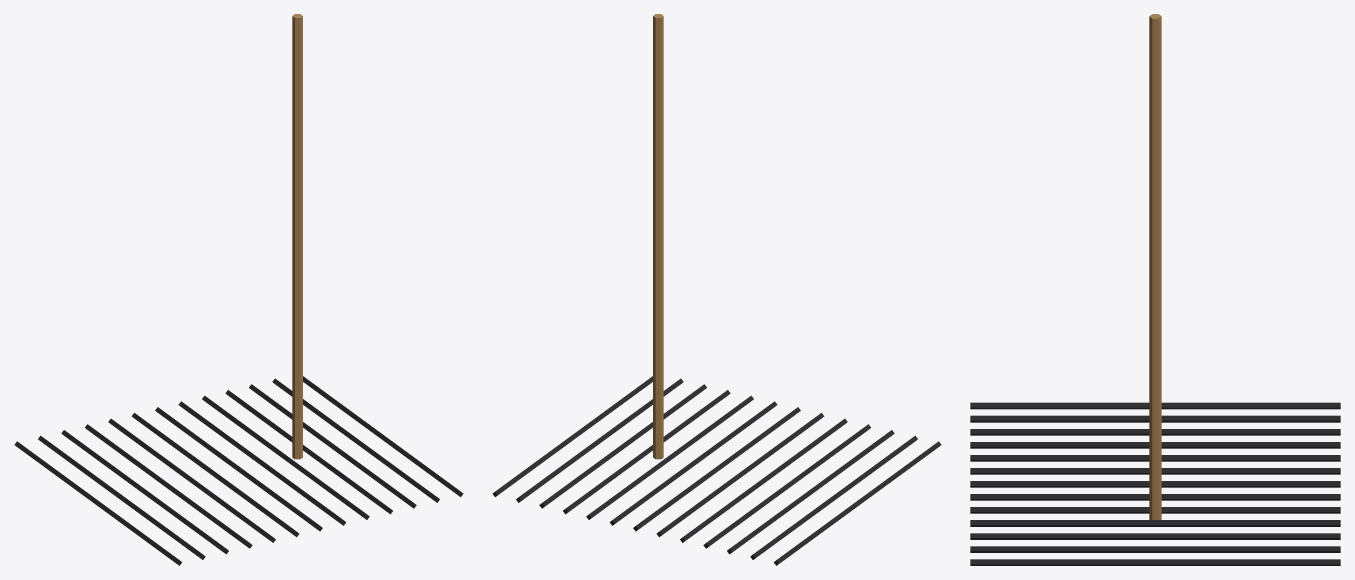
Rendered from street.furniture.tree_grate.glb.
3 views of the same model, side by side, from view 1: azimuth 30°, elevation 25°; view 2: azimuth 150°, elevation 25°; view 3: azimuth 270°, elevation 25° (orthographic). The views are drawn at different scales.
Parts seen in each view (by area): view 1: main__cast_iron, main__softwood; view 2: main__cast_iron, main__softwood; view 3: main__cast_iron, main__softwood.
Part boxes in pixels (x1,y1,x2,y2): main__cast_iron: (14, 376, 463, 565); main__softwood: (292, 14, 302, 459); main__cast_iron: (492, 376, 941, 565); main__softwood: (653, 14, 663, 459); main__cast_iron: (970, 402, 1340, 565); main__softwood: (1149, 14, 1161, 519).
Size of the model in its own units: 1.22 by 1.8 by 1.2.
